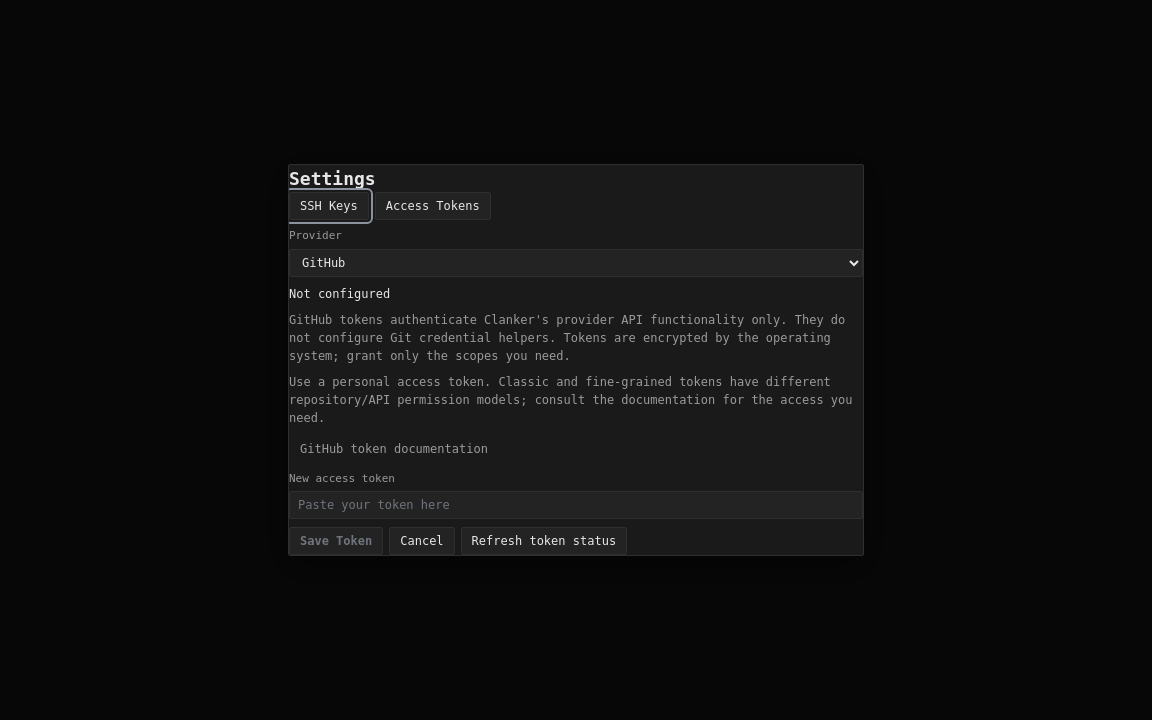
Test: canonical Authentication content › does not claim an acknowledged save left no token when metadata refresh fails
Expected: the text "Not configured" is shown, [289, 286, 390, 300]
In the password field labelled "New access token": (576, 505) [289, 491, 863, 519], type "temporary-secret"
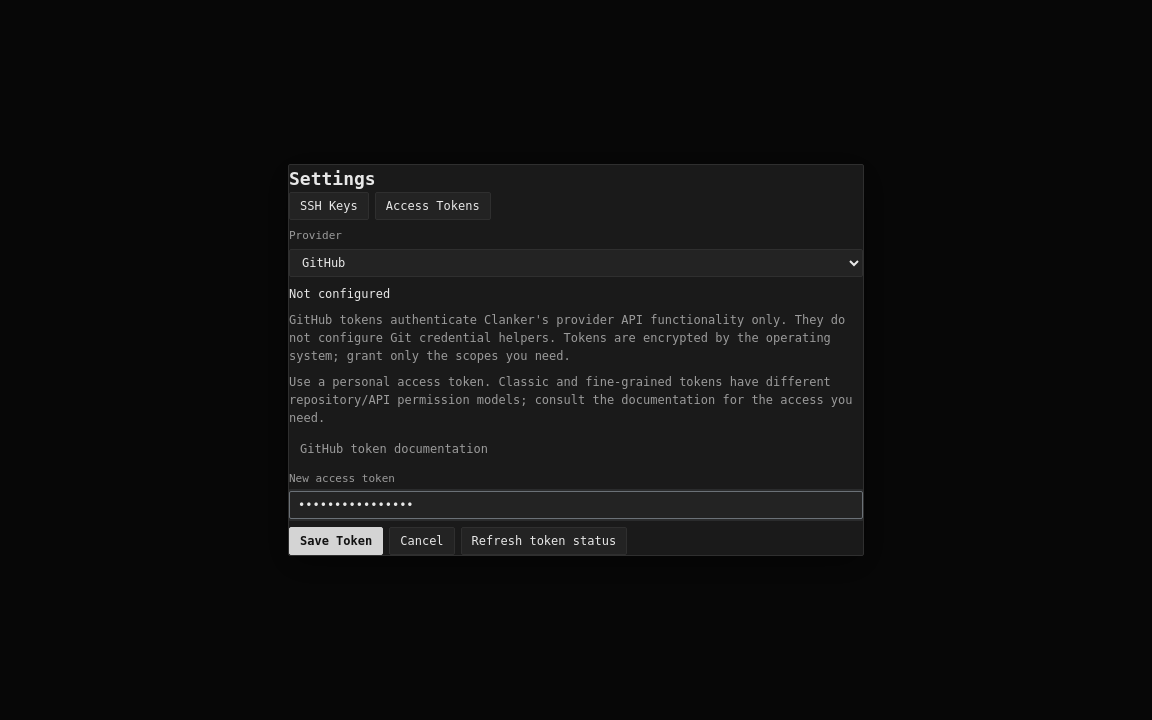
Click the button "Save Token": click(336, 541) [289, 527, 383, 555]
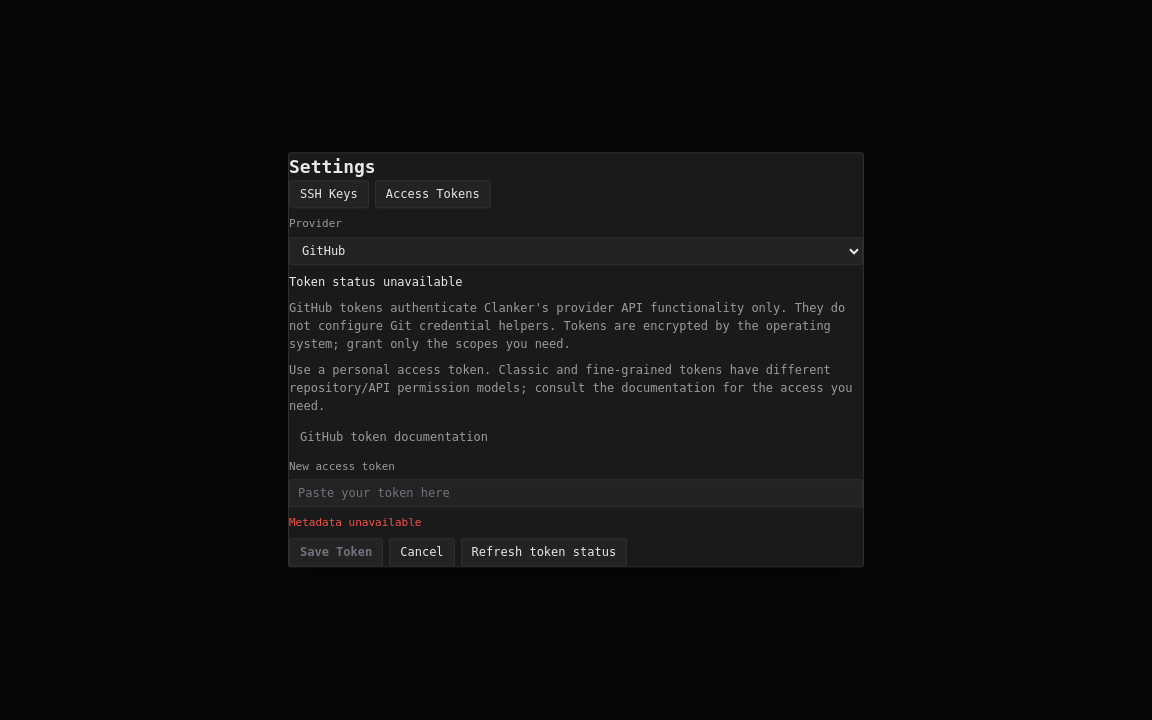
Expected: the message "Metadata unavailable" is shown, [289, 516, 422, 529]
Expected: the text "Not configured" is gone
Expected: the password field labelled "New access token" is empty, [289, 479, 863, 507]
